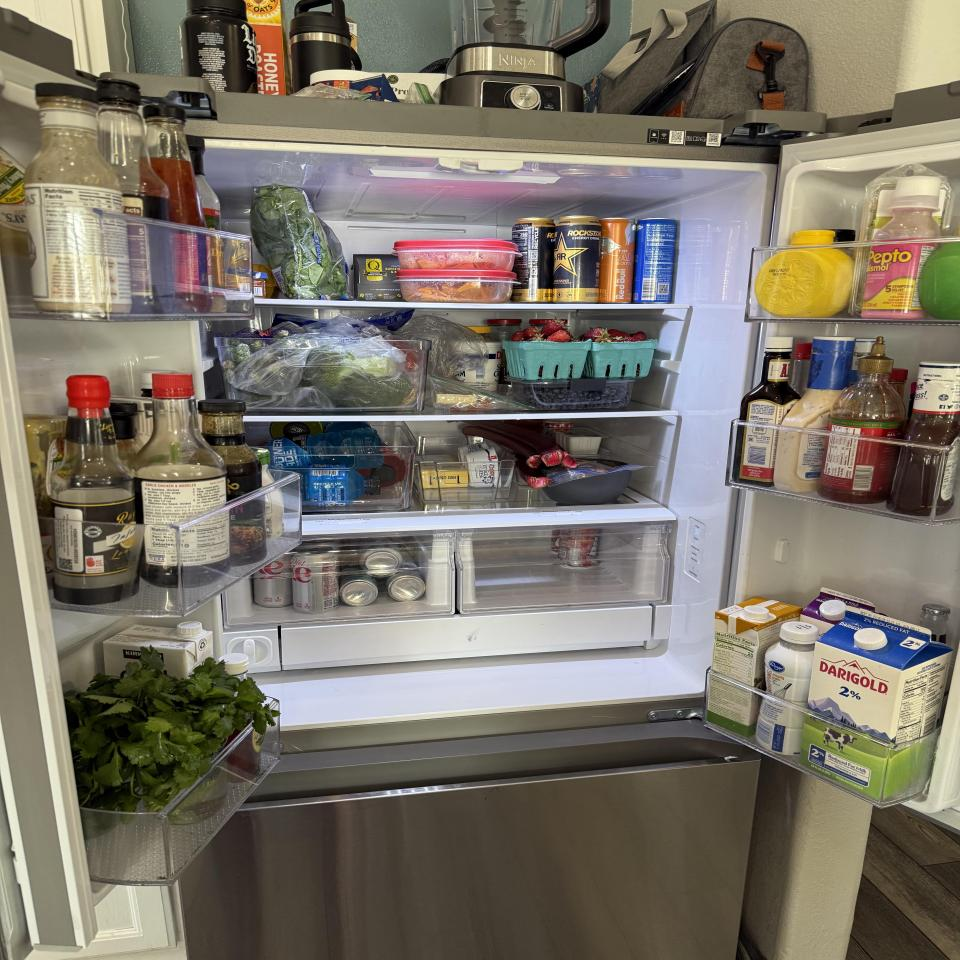Leche: (803, 606, 952, 804)
Mantequilla: (415, 455, 468, 488)
Yogur: (453, 342, 503, 394)
blueberries: (508, 380, 635, 410)
strawberries: (508, 319, 575, 344), (578, 326, 650, 344)
